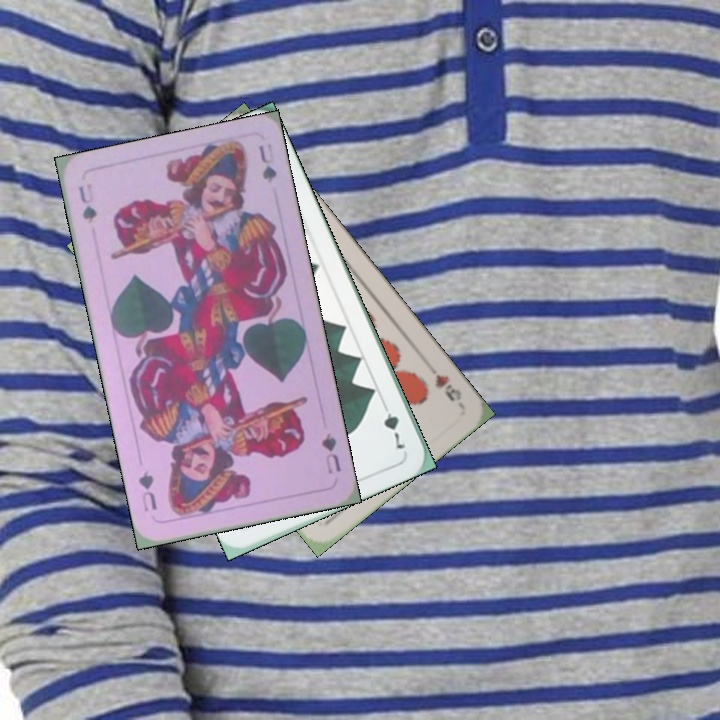G7: (378, 397, 408, 452)
GU: (317, 429, 344, 477), (74, 179, 100, 226)
H9: (430, 370, 465, 404)
